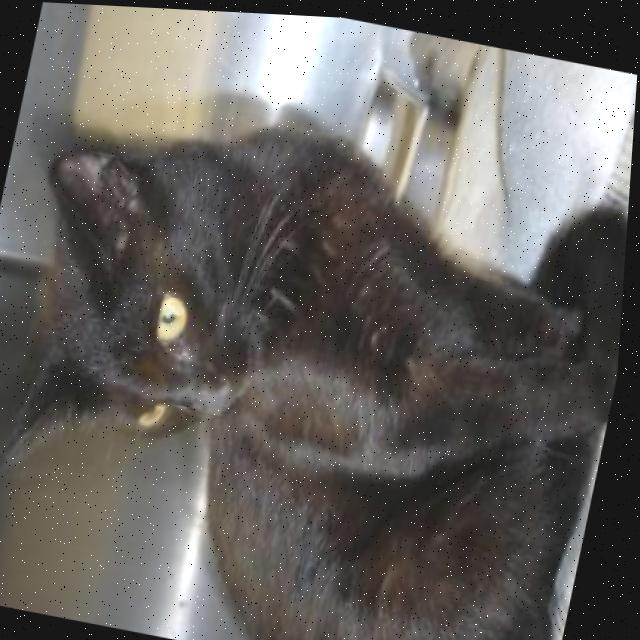Bombay: (0, 73, 636, 640)
